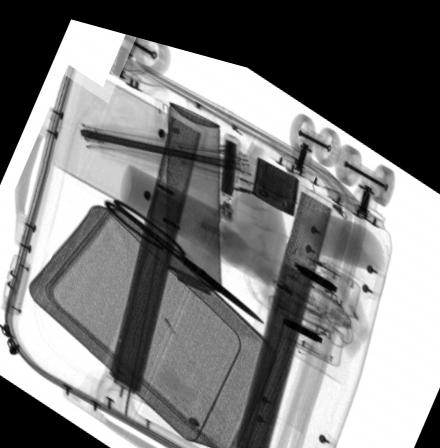Lighter: (252, 140, 296, 200)
Powerbank: (216, 117, 241, 210)
Scissors: (101, 191, 266, 309)
Sprayer: (166, 89, 225, 311)
